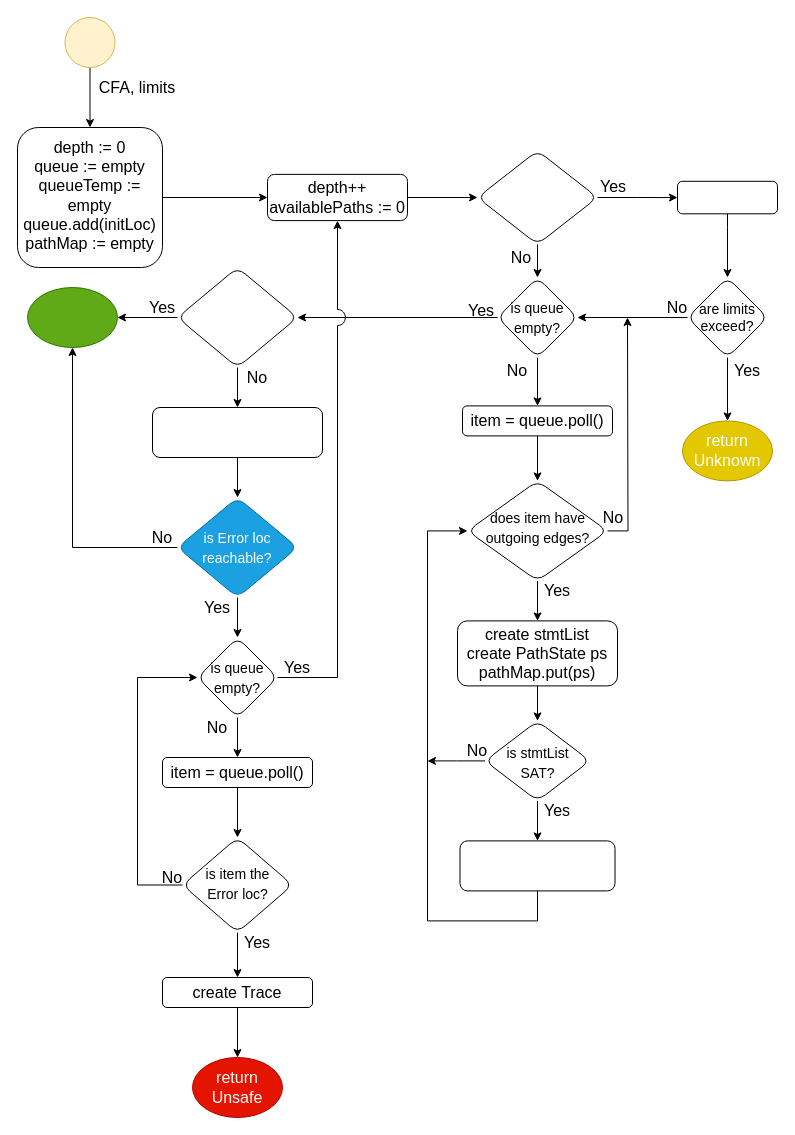
The diagram is 795 pixels wide and 1135 high, and some of its shapes have lost their labels. The shapes that lost their labels are listed below. From the top down, each one's box as (x1, y1, x2, y2) in pixels, then its label:
(64, 16, 115, 68): start
(476, 150, 598, 244): are there limits for the program?
(676, 180, 778, 214): check limits
(26, 286, 118, 348): return Safe
(176, 266, 298, 368): is availablePaths 0?
(152, 406, 322, 458): queue := queueTemp queueTemp := empty
(459, 840, 615, 891): queueTemp.add(ps) availablePaths++
